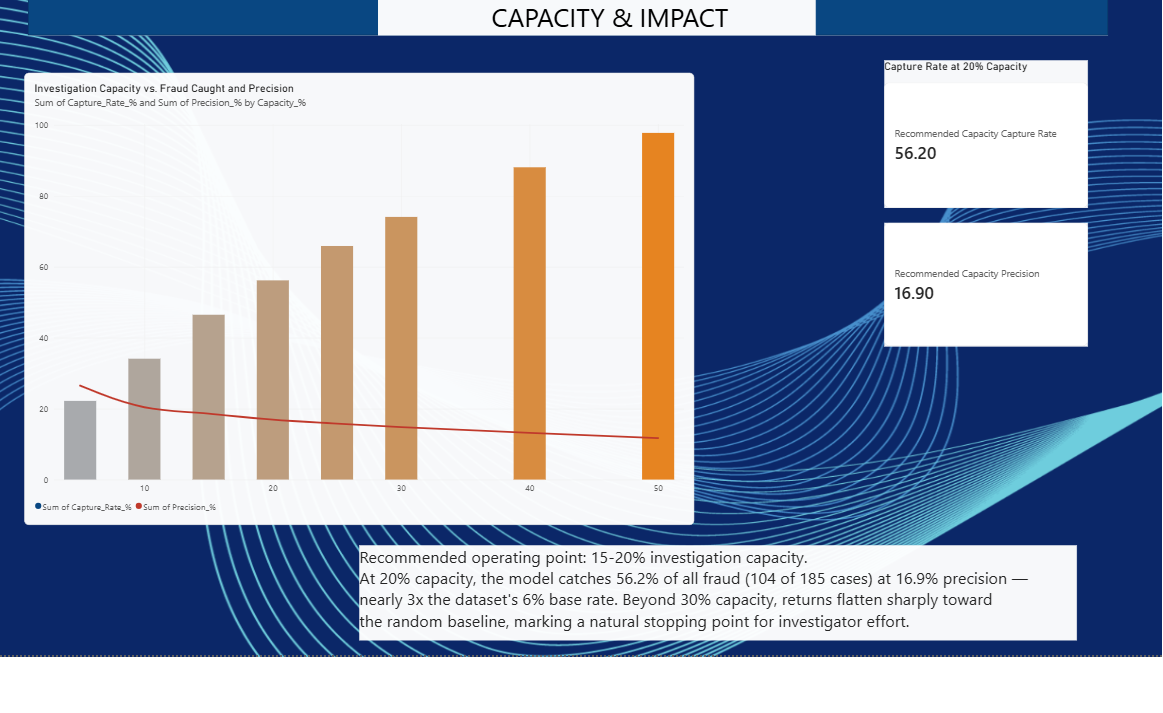

This screenshot's page, from the dashboard's own definition file:
{"tool":"powerbi","page":{"name":"Capacity & Impact","canvas":[1920,1080],"ordinal":2},"visuals":[{"type":"lineClusteredColumnComboChart","title":"Investigation Capacity vs. Fraud Caught and Precision","fields":{"Category":["CapacityTable.Capacity_%"],"Y":["Sum(CapacityTable.Capture_Rate_%)"],"Y2":["Sum(CapacityTable.Precision_%)"]},"box":[43.2,121.4,1103.3,745.1],"z":0},{"type":"cardVisual","title":"Capture Rate at 20% Capacity","fields":{"Data":["Claims.Recommended Capacity Capture Rate"]},"box":[1459.4,100.9,335.5,242.9],"z":1},{"type":"cardVisual","fields":{"Data":["Claims.Recommended Capacity Precision"]},"box":[1459.4,368.4,335.5,203.8],"z":2},{"type":"textbox","box":[594.9,899.5,1181.5,156.4],"z":3},{"type":"shape","box":[49.4,0,1778.4,59.7],"z":4},{"type":"textbox","box":[625.7,0,720.4,59.7],"z":5}]}

Visuals, with their boxes on the page's 1920x1080 design canvas (x1, y1, x2, y2). These are canvas units, not pixel positions in the 1163x713 screenshot, which may show the page scaled, cropped or inside an application window:
"Investigation Capacity vs. Fraud Caught and Precision" lineClusteredColumnComboChart: crop(43, 121, 1146, 866)
"Capture Rate at 20% Capacity" cardVisual: crop(1459, 101, 1795, 344)
cardVisual - Claims.Recommended Capacity Precision: crop(1459, 368, 1795, 572)
textbox: crop(595, 900, 1776, 1056)
shape: crop(49, 0, 1828, 60)
textbox: crop(626, 0, 1346, 60)
